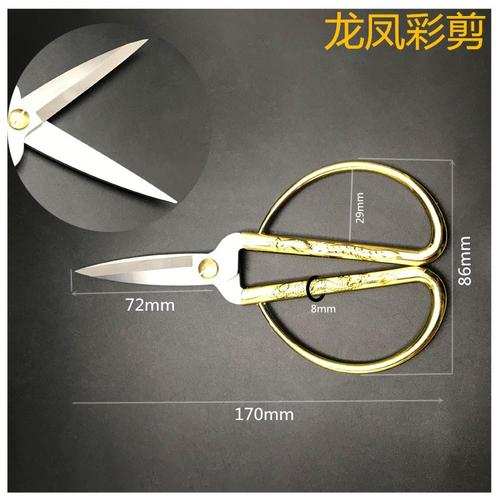scissor: (72, 161, 451, 377)
